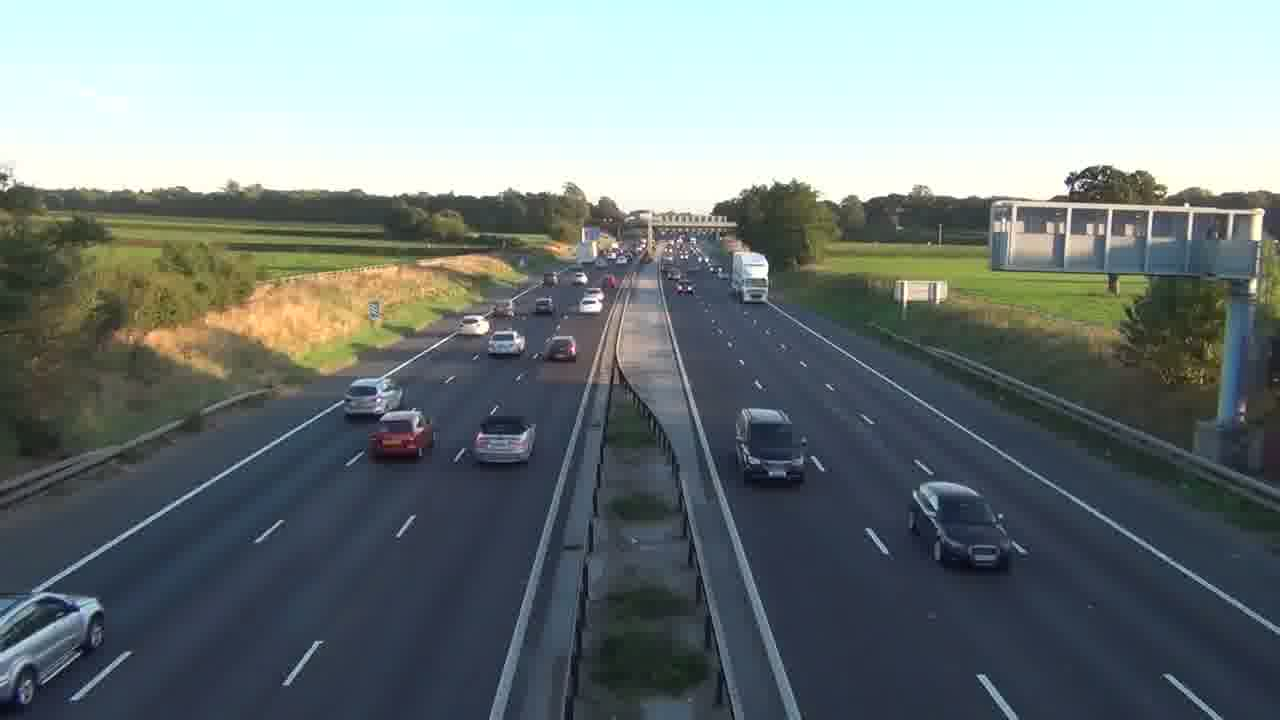car: (0, 590, 106, 709), (907, 479, 1014, 571), (368, 408, 435, 461), (471, 414, 537, 465), (487, 330, 525, 358), (543, 334, 578, 362)
truck: (734, 406, 809, 486), (732, 252, 770, 303)
